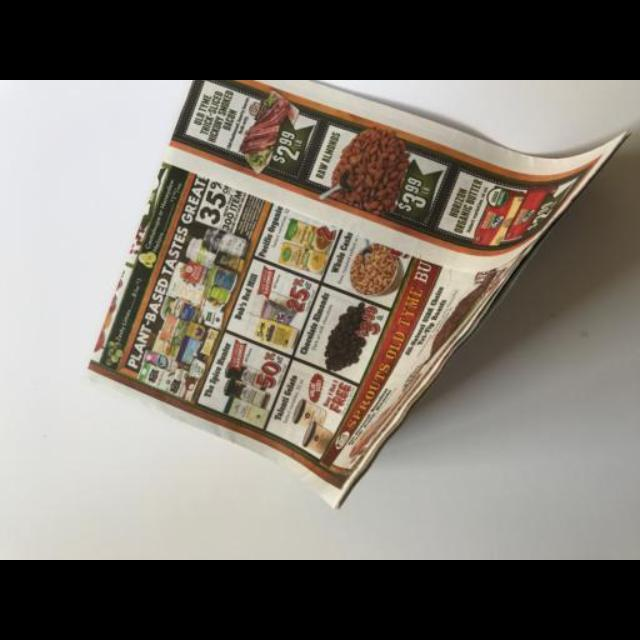papel: (86, 80, 628, 508)
